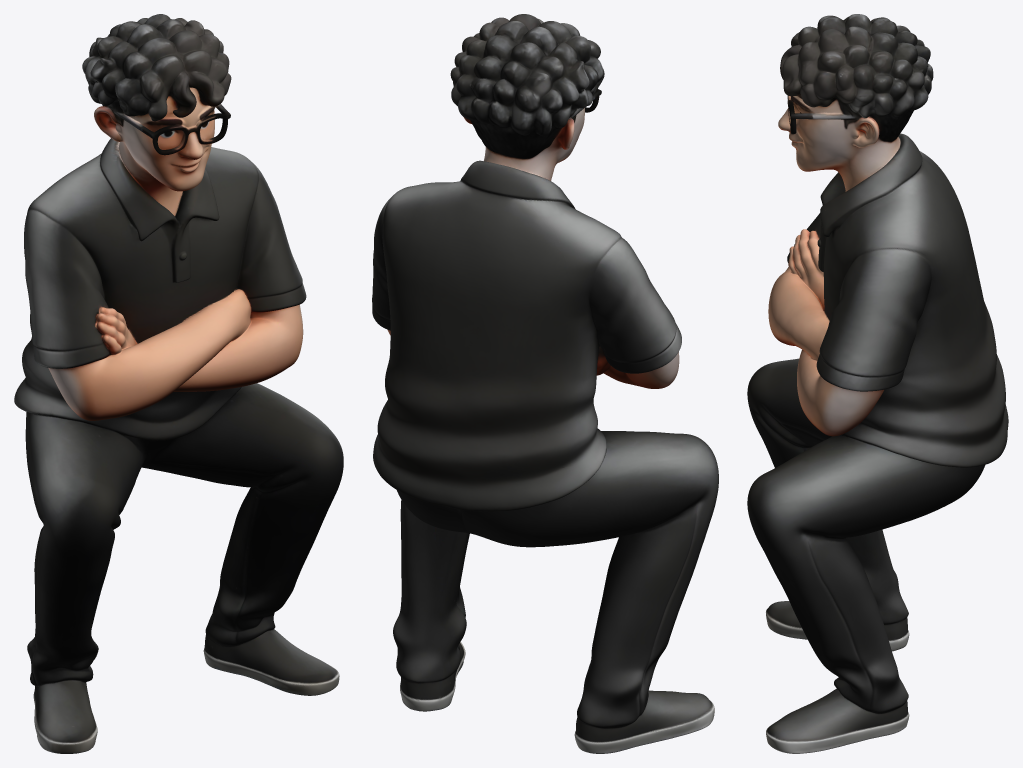
The model's file is ArgoUnity.fbx.
The picture shows the model from 3 angles, left to right: view 1: azimuth 30°, elevation 25°; view 2: azimuth 150°, elevation 25°; view 3: azimuth 270°, elevation 25°; orthographic projection. The views are drawn at different scales.
Parts seen in each view (by area): view 1: tripo_node_8935be53; view 2: tripo_node_8935be53; view 3: tripo_node_8935be53.
Boxes of the visible parts, bbox=[...] form: tripo_node_8935be53: bbox=[14, 14, 343, 753]; tripo_node_8935be53: bbox=[372, 14, 718, 753]; tripo_node_8935be53: bbox=[747, 14, 1008, 753].
Bounding box in the file's own units: 0.4546 × 1 × 0.3566.
